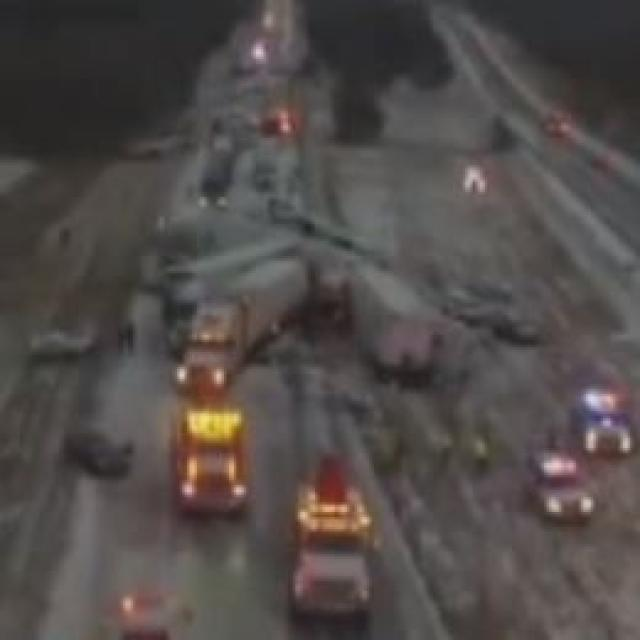traffic_incident: (162, 202, 440, 386)
